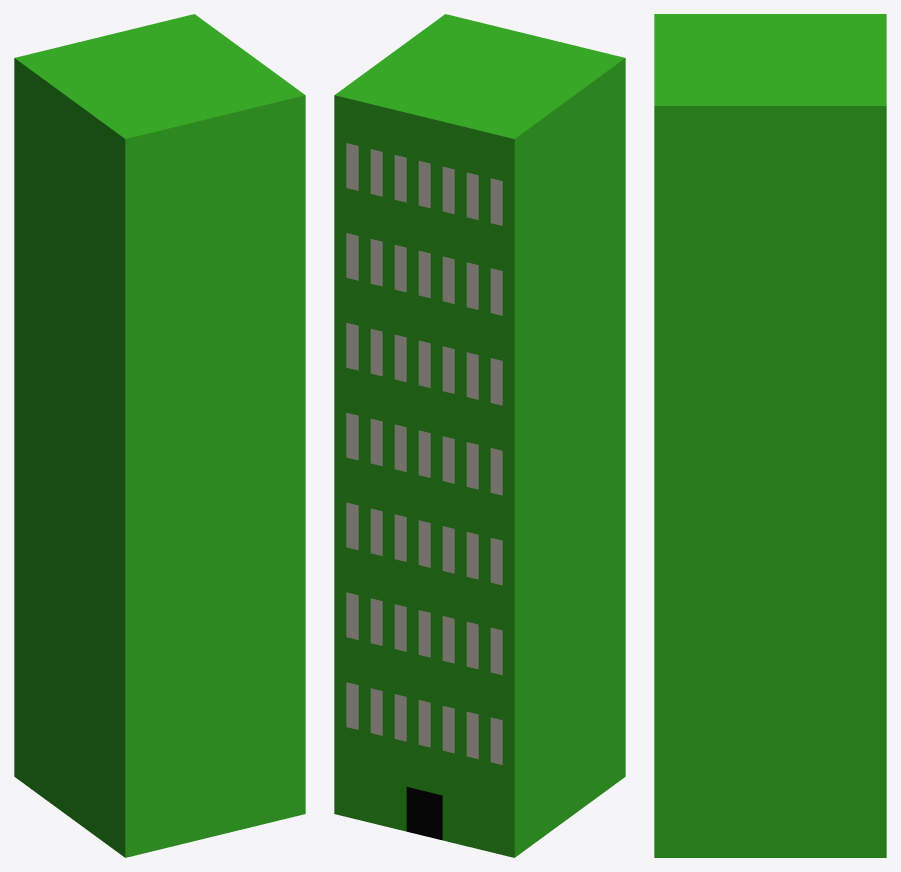
File: skyscraper1.glb
The picture shows the model from 3 angles, left to right: view 1: azimuth 30°, elevation 25°; view 2: azimuth 150°, elevation 25°; view 3: azimuth 270°, elevation 25°; orthographic projection. The views are drawn at different scales.
Visible parts, largest first — view 1: Cube; view 2: Cube; view 3: Cube.
Boxes of the visible parts, left/top/right/bottom form: Cube: left=14, top=14, right=305, bottom=857; Cube: left=334, top=14, right=625, bottom=857; Cube: left=654, top=14, right=886, bottom=857.
Size of the model in its own units: 1.88 by 7.15 by 2.
